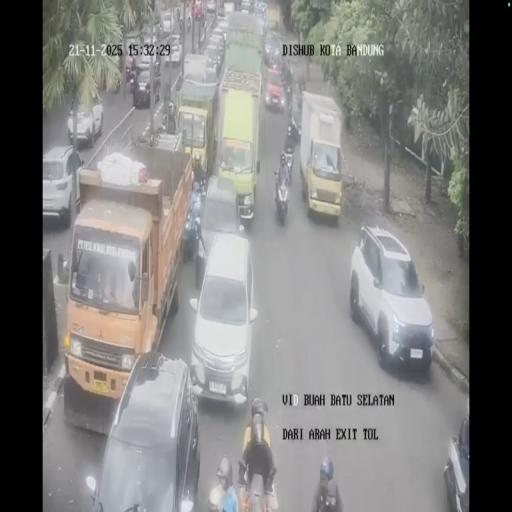car: (188, 231, 258, 406), (350, 225, 433, 372), (197, 174, 241, 262), (42, 145, 84, 228), (68, 95, 105, 145), (133, 58, 161, 108), (204, 31, 226, 78), (264, 66, 285, 112), (124, 35, 144, 75), (263, 34, 283, 71), (170, 34, 183, 64), (215, 16, 230, 40), (143, 23, 160, 44), (161, 12, 173, 34), (253, 0, 267, 17), (216, 2, 228, 19), (240, 0, 252, 12), (206, 0, 216, 13)
motorcycle: (238, 456, 278, 510), (274, 167, 290, 222), (285, 110, 300, 146), (282, 146, 294, 180), (294, 66, 306, 93), (126, 67, 138, 94), (282, 73, 292, 101), (186, 12, 191, 30)
truck: (64, 136, 192, 418), (299, 92, 343, 222), (174, 60, 220, 179), (221, 11, 264, 82), (266, 5, 280, 33), (194, 0, 206, 20)
